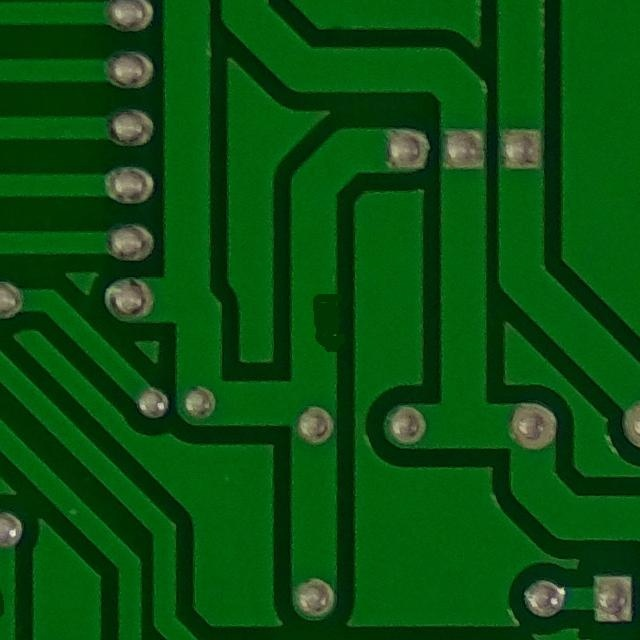mouse_bite: (292, 275, 348, 366)
